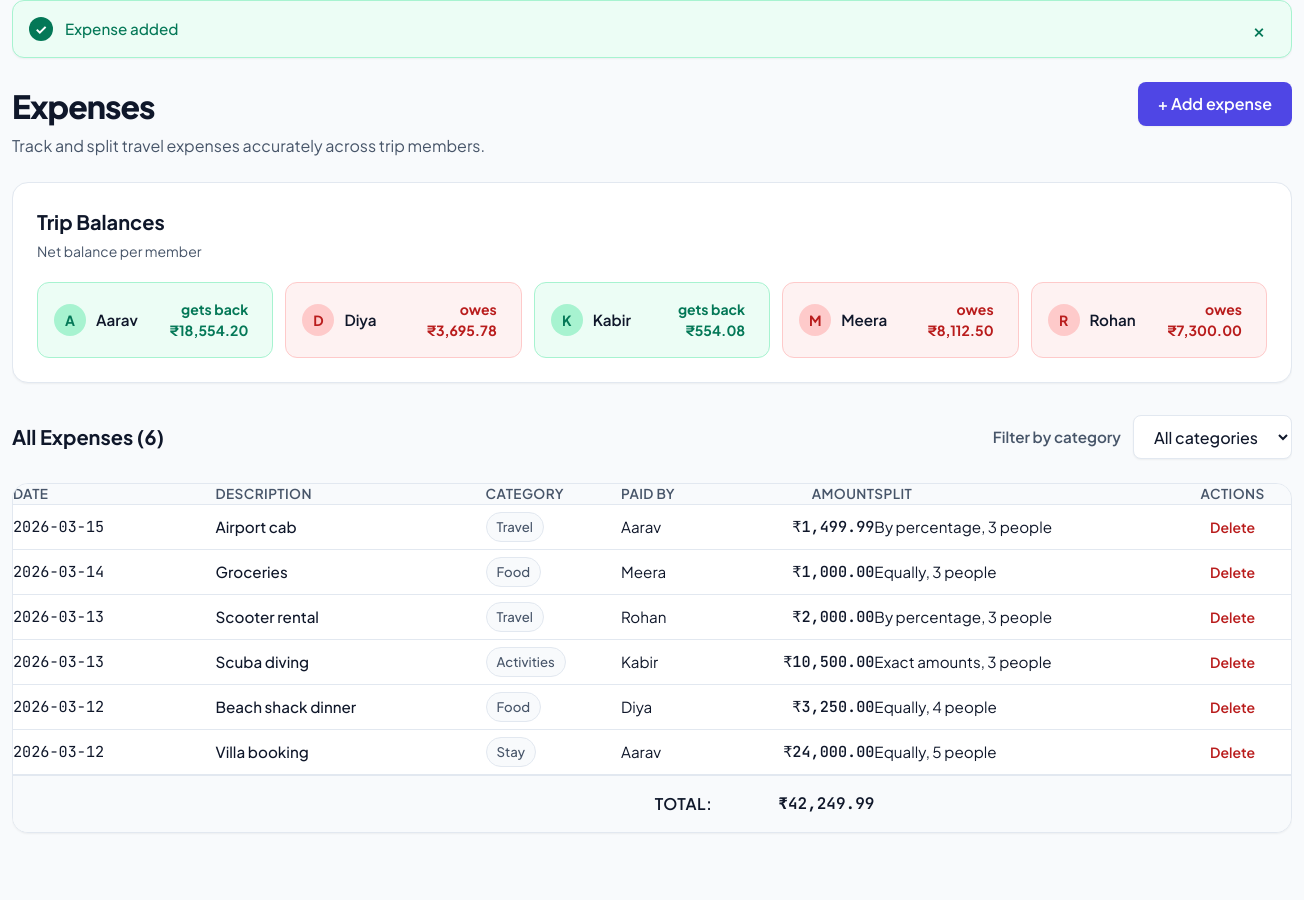
Test case: ExpensesPage › displays flash message if present in location.state and dismisses it
expect the message shows "Expense added": met, box [65,19,178,38]
Click the button named "dismiss notification" at [1259, 29], box [1243,13,1275,45]
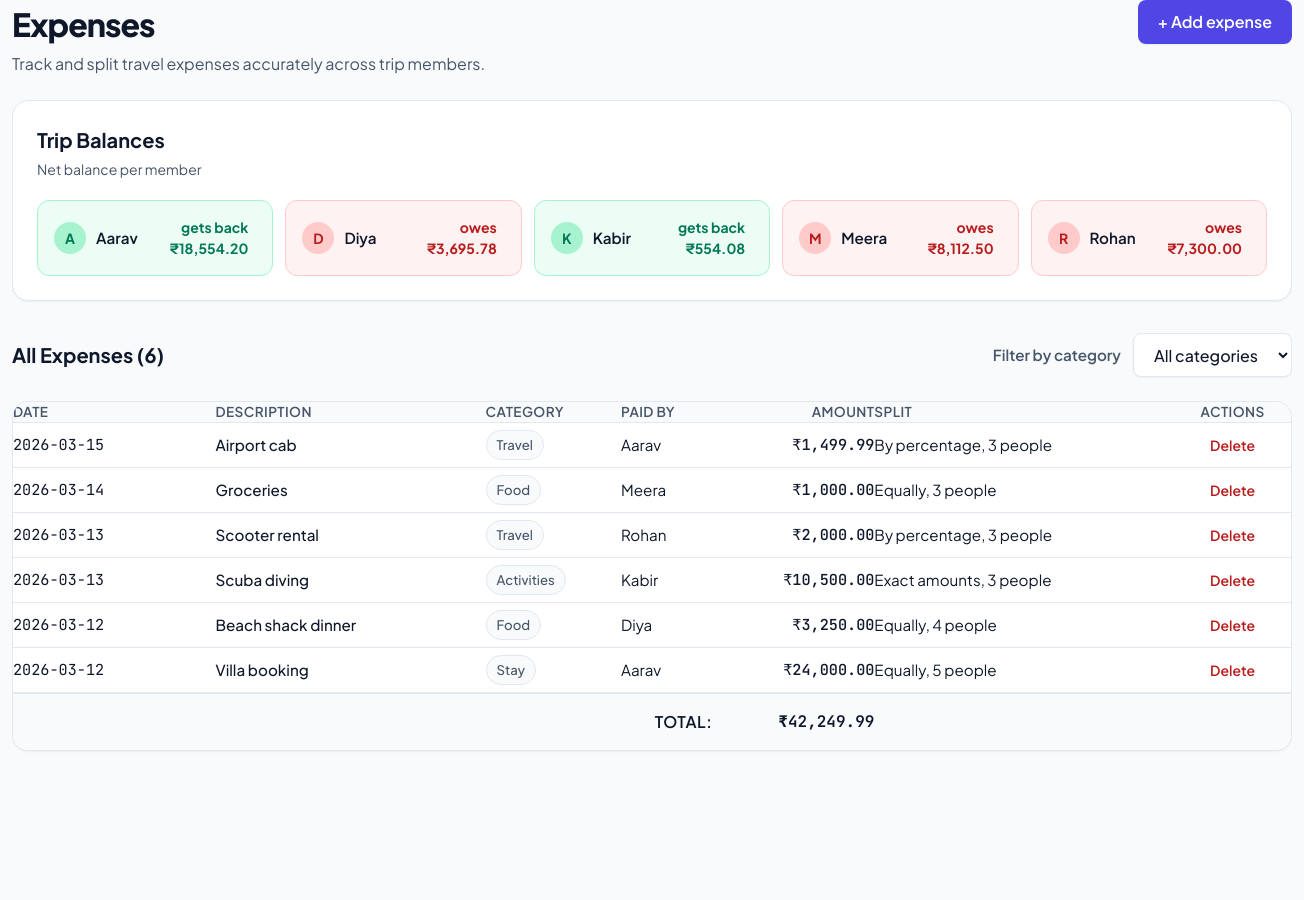
expect the message "✓ Expense added ×" is gone: met
